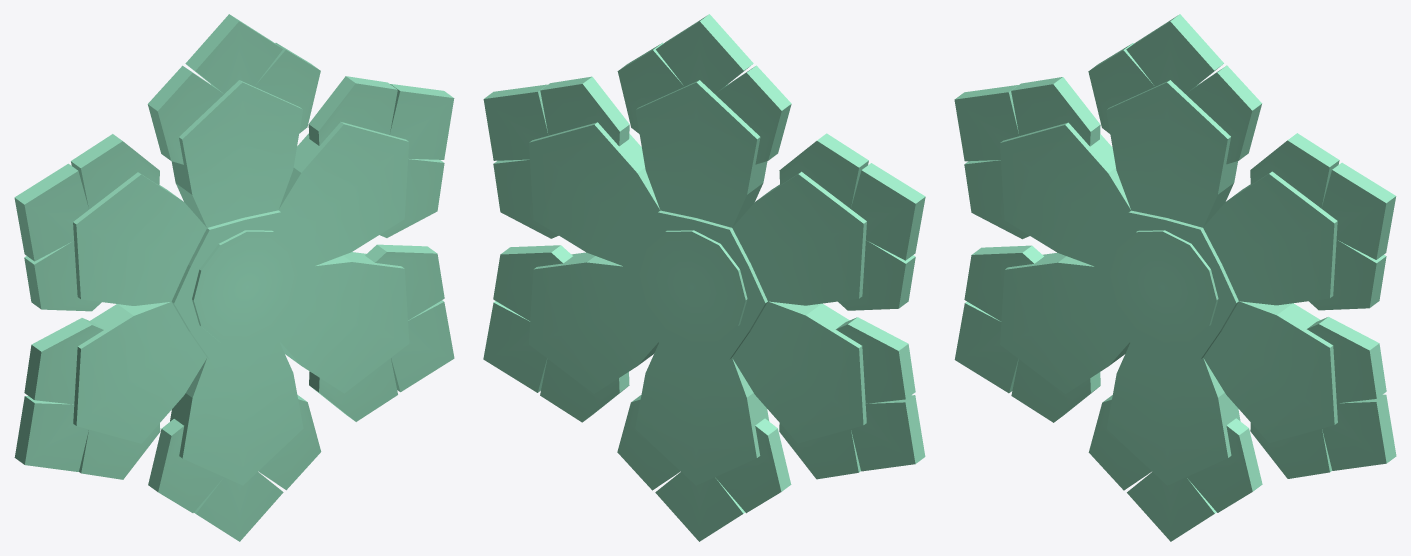
The model's file is Snowflake.005.glb.
The picture shows the model from 3 angles, left to right: view 1: azimuth 30°, elevation 25°; view 2: azimuth 150°, elevation 25°; view 3: azimuth 330°, elevation 25°; orthographic projection.
Parts seen in each view (by area): view 1: Snowflake.005; view 2: Snowflake.005; view 3: Snowflake.005.
Boxes of the visible parts, x1,y1,x2,y2 form: Snowflake.005: [14, 14, 454, 541]; Snowflake.005: [483, 14, 925, 541]; Snowflake.005: [954, 14, 1396, 541].
Size of the model in its own units: 792 by 914 by 81.94.
